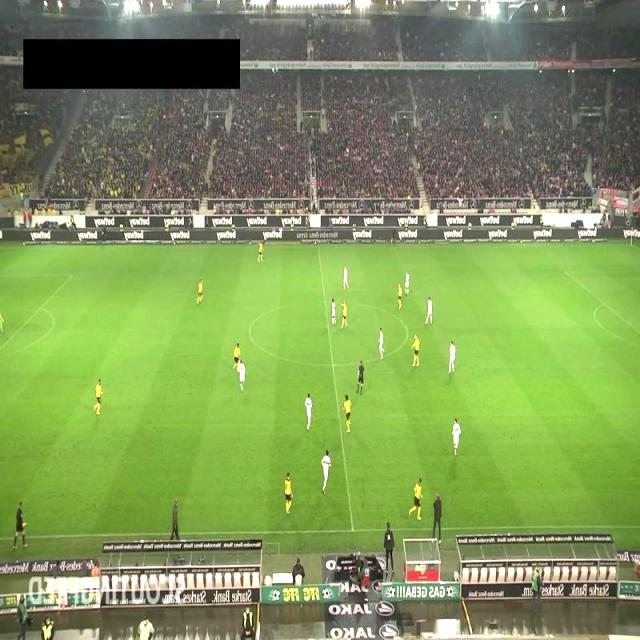bigarea_top_inner: (66, 270, 78, 281), (562, 266, 571, 279)
corner: (625, 238, 636, 248)
halfcircle_bottom: (328, 359, 338, 370)
halfcircle_top: (320, 296, 330, 306)
midline_bottom_intersection: (346, 522, 360, 540)
midline_top_intersection: (312, 240, 322, 250)
top_arc_area_intersection: (594, 298, 614, 311), (34, 303, 46, 314)
